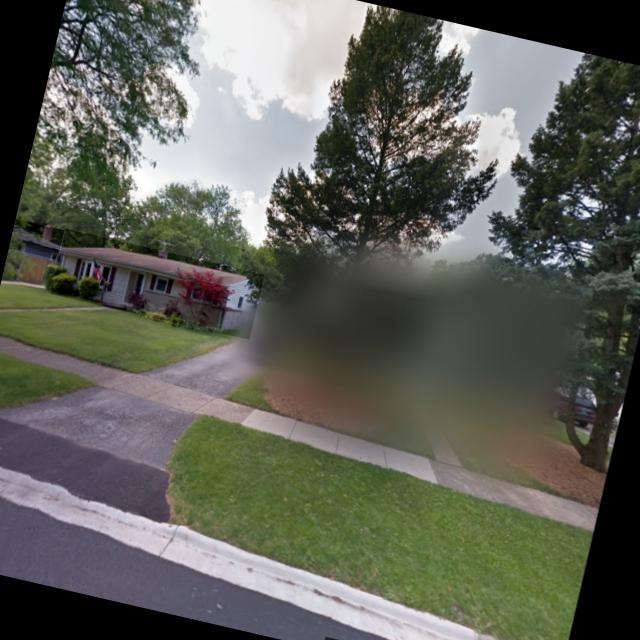House: (50, 228, 264, 339), (8, 218, 64, 260)
